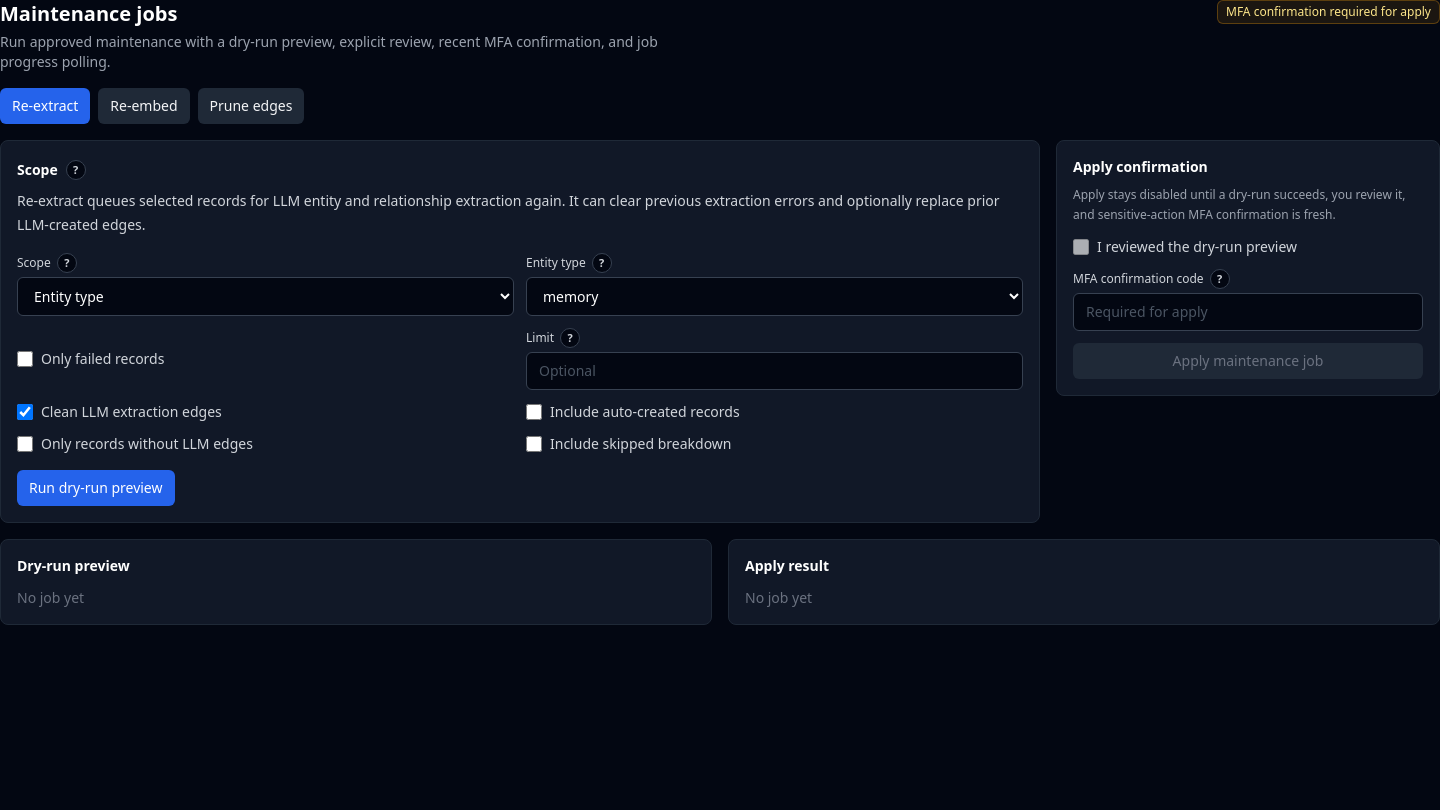
it: AdminMaintenance › locks request controls while a maintenance job is in flight so polling evidence is retained
The width and height of the screenshot is (1440, 810).
Step 1. Click the button "Run dry-run preview" → (96, 488), box [17, 470, 174, 506]
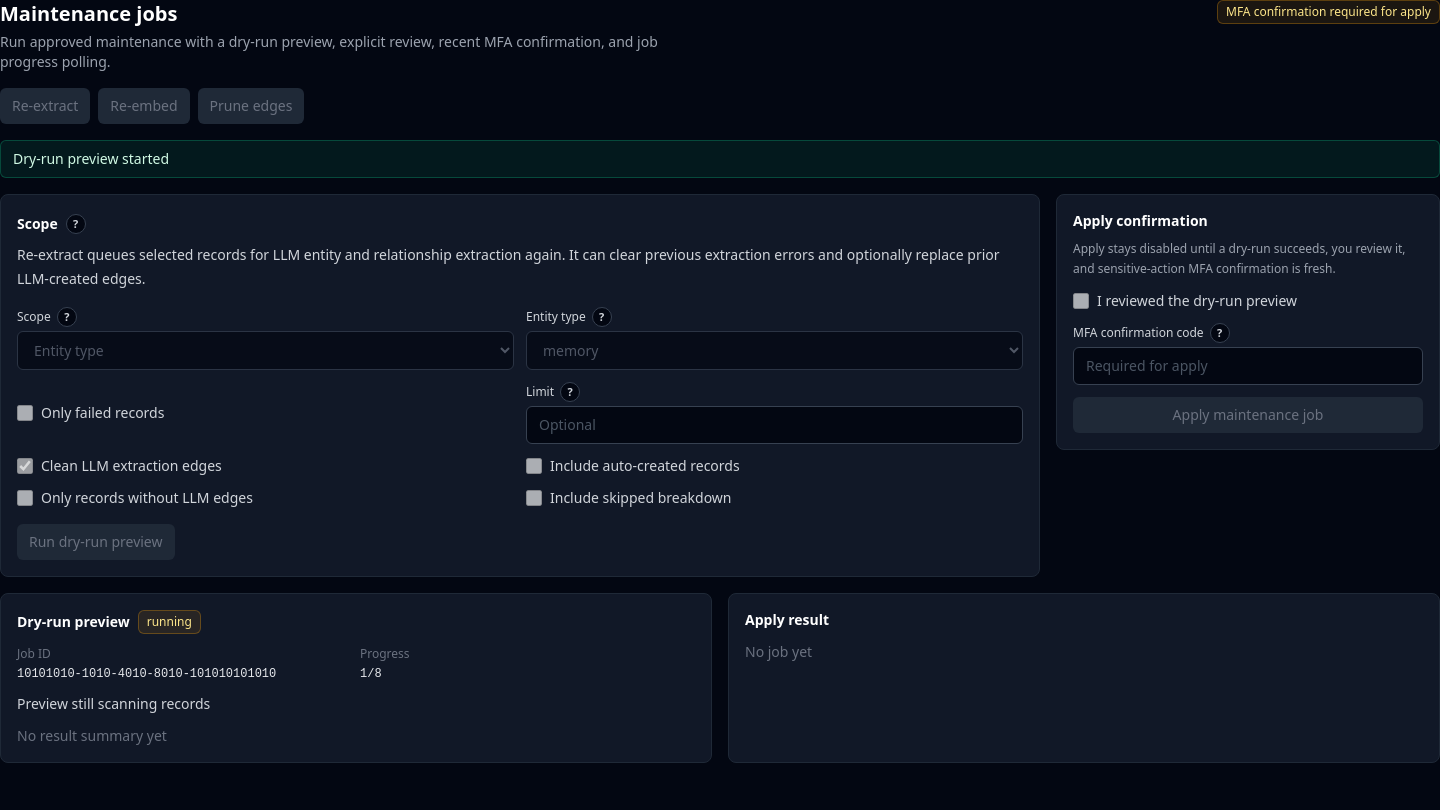
Result: the text "Preview still scanning records" is shown at [17, 694, 210, 713]
Result: the text "1/8" is shown at [360, 667, 382, 681]
Result: the button "Re-embed" is disabled
Step 2. Click the button "Re-embed" → (144, 106), box [98, 88, 190, 124]
Wait 2000 ms
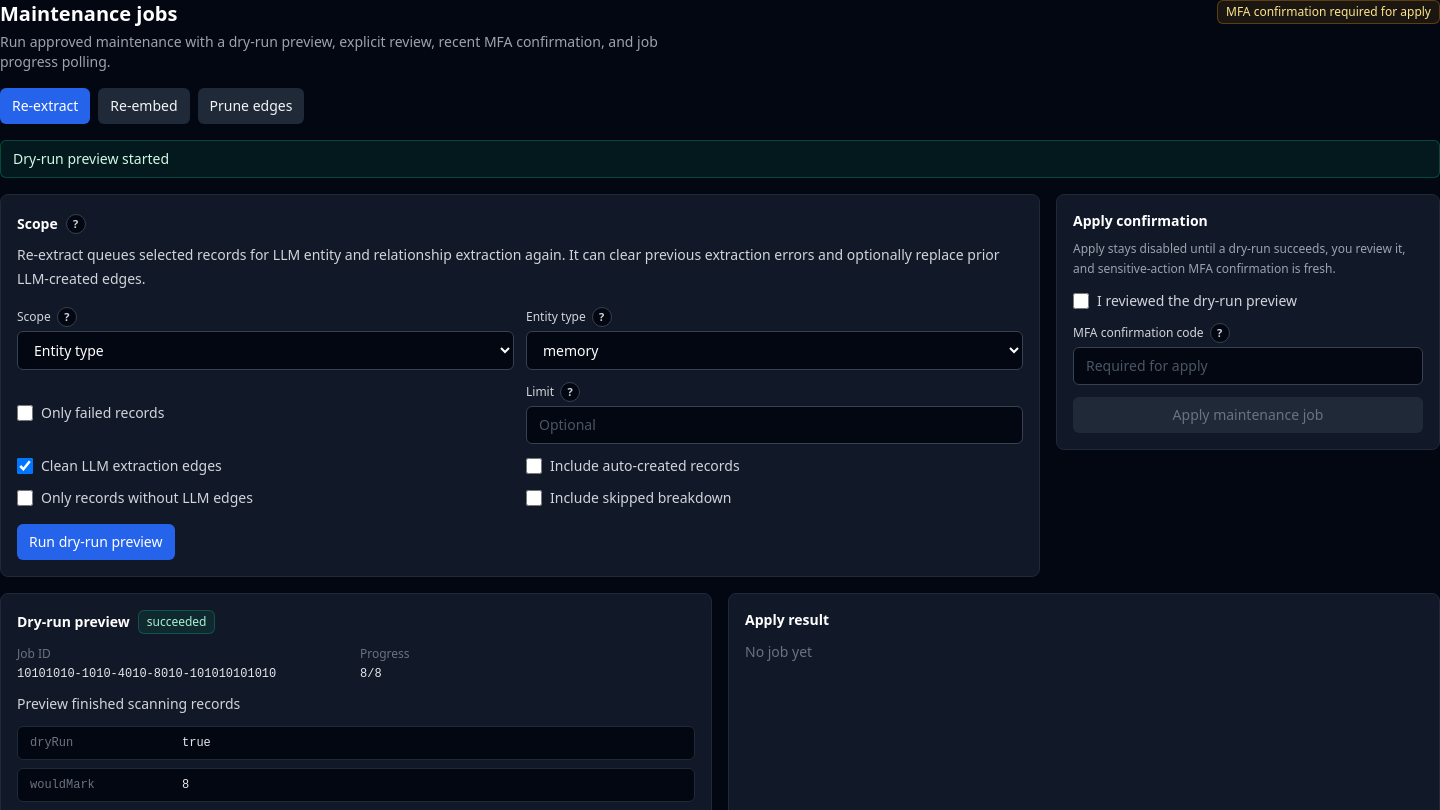
Result: the text "Preview finished scanning records" is shown at [17, 694, 240, 713]
Result: the button "Re-embed" is enabled at [98, 88, 190, 124]
Result: the dropdown labelled "Scope" is enabled at [17, 331, 514, 370]
